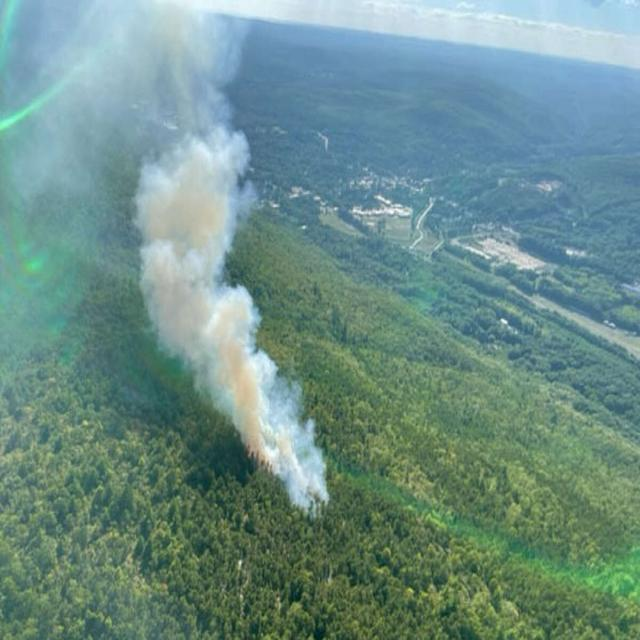Smoke: (132, 127, 331, 526)
